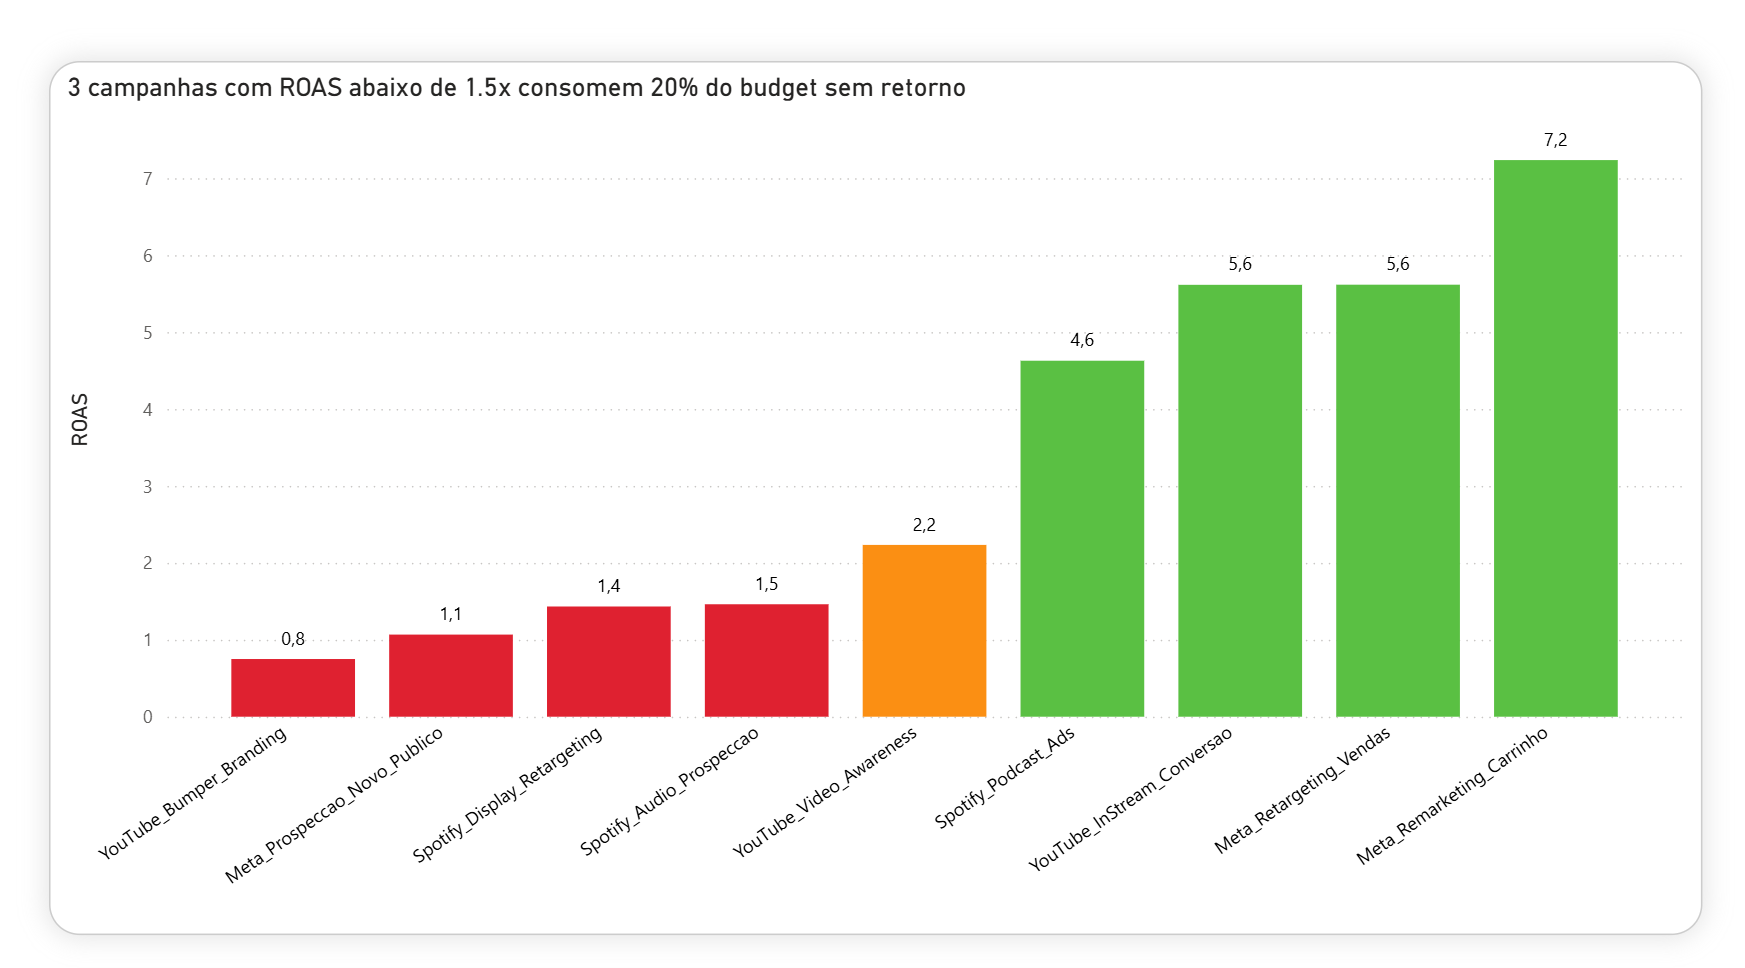

Layout of this report page (visuals, bound fields, positions):
{"tool":"powerbi","page":{"name":"Campanhas Ruins","canvas":[1280,720],"ordinal":2},"visuals":[{"type":"clusteredColumnChart","title":"3 campanhas com ROAS abaixo de 1.5x consomem 20% do budget sem retorno","fields":{"Category":["dCampanha.nome_campanha"],"Y":["dCampanha.ROAS"]},"box":[118.5,90.5,1081.6,572.1],"z":0}]}

Visuals, with their boxes in screenshot pixels (x1, y1, x2, y2), scaled from the page's 1280x720 canvas onto the 1745x968 screenshot:
"3 campanhas com ROAS abaixo de 1.5x consomem 20% do budget sem retorno" clusteredColumnChart: (x1=162, y1=122, x2=1636, y2=891)
